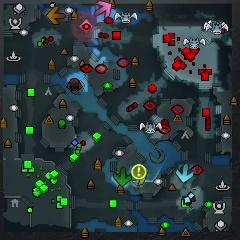x1: (95, 1, 112, 18)
x2: (133, 169, 148, 185)
x3: (176, 164, 194, 182)
x4: (114, 168, 132, 186)
x5: (47, 6, 66, 24)
